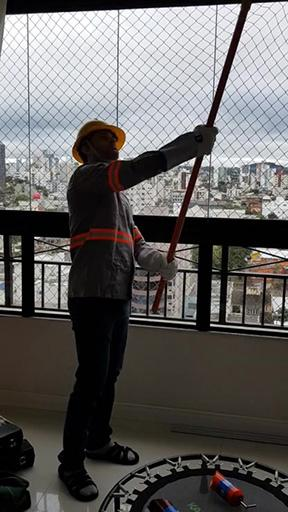Detector_Tensao_Contato: (210, 470, 255, 512)
Vara_Manobra: (151, 2, 252, 317)
